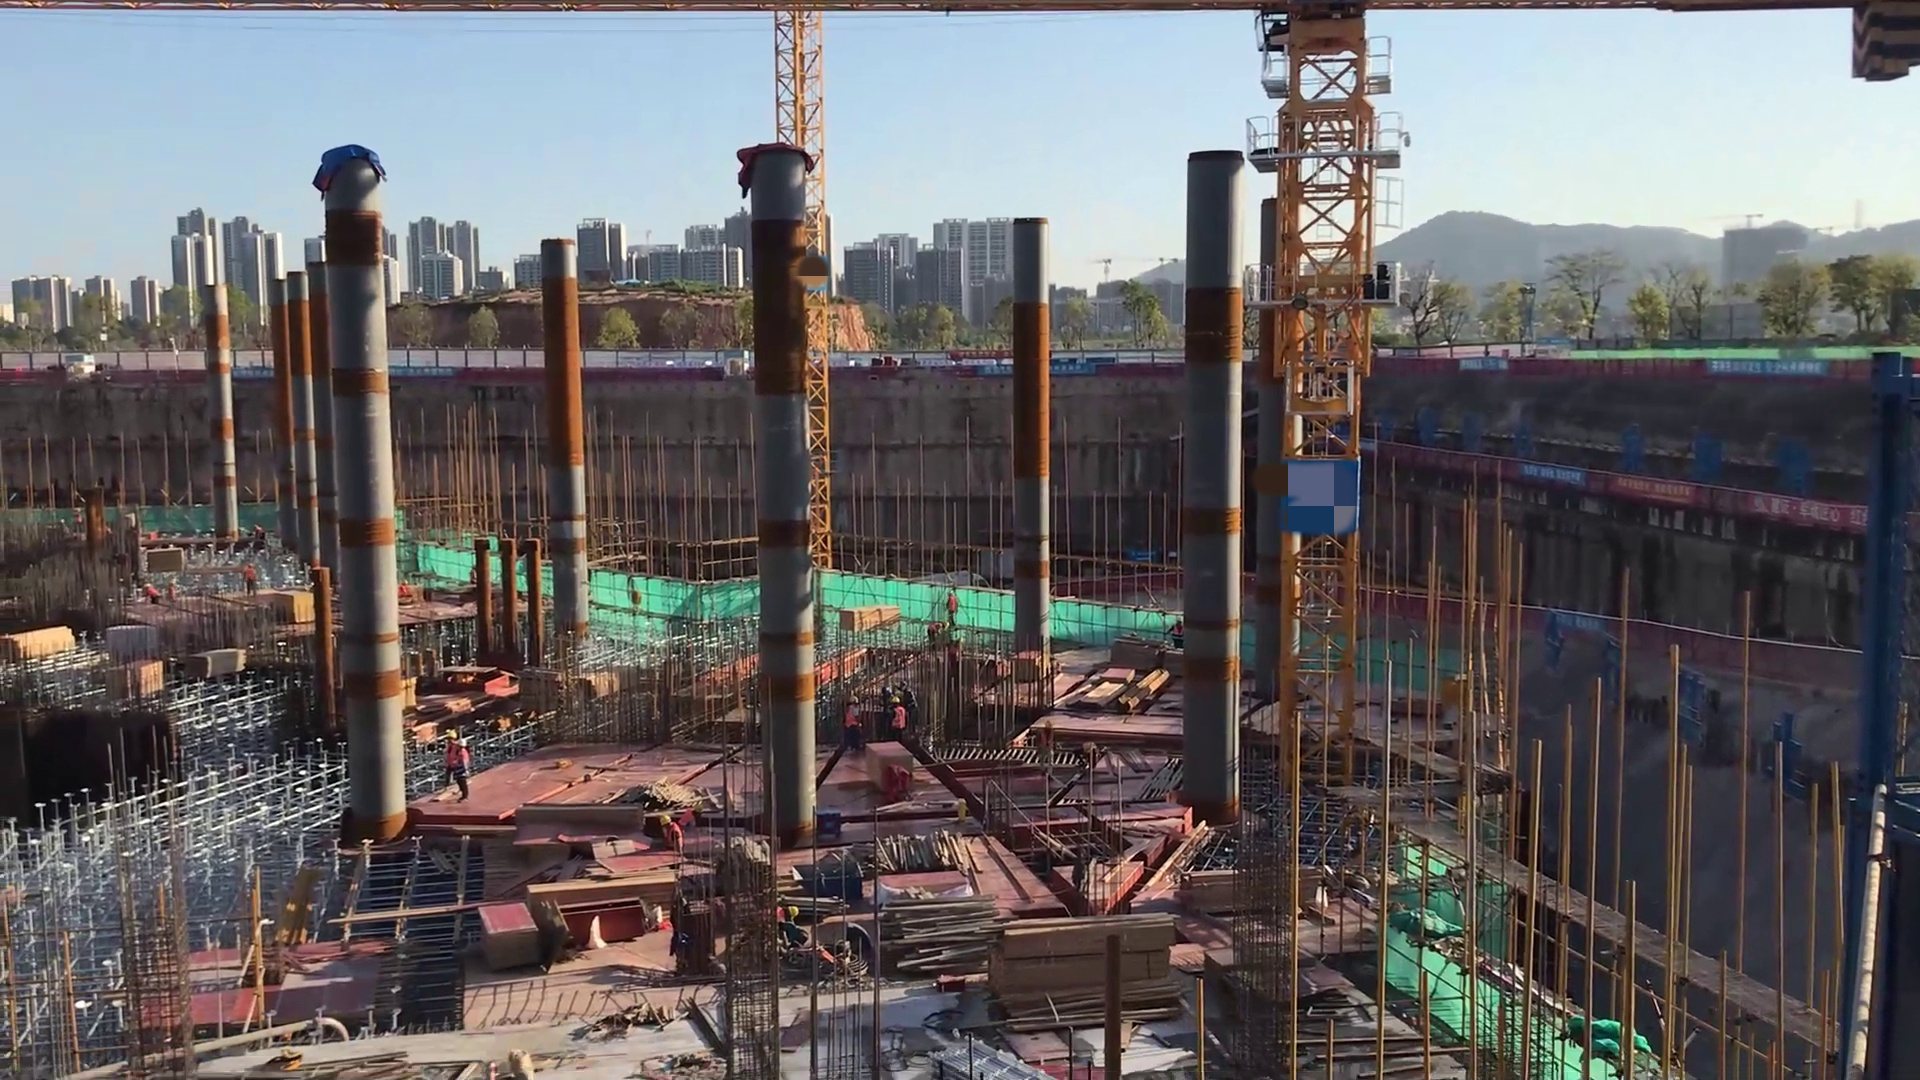board: (481, 898, 547, 973), (274, 584, 313, 627)
helmet: (692, 800, 705, 817), (846, 693, 863, 707), (788, 903, 798, 924), (458, 737, 469, 751), (658, 815, 672, 827), (446, 730, 460, 741), (890, 698, 901, 709), (1175, 616, 1186, 628), (947, 590, 957, 599), (400, 577, 409, 586), (940, 620, 950, 628)
hook: (795, 856, 866, 907)
person: (763, 898, 799, 942), (454, 736, 473, 806), (902, 680, 925, 736), (881, 763, 913, 802), (844, 691, 863, 754), (659, 816, 684, 859), (442, 730, 459, 790), (944, 585, 965, 631), (888, 695, 907, 743), (922, 616, 951, 646), (1166, 614, 1187, 653), (680, 803, 704, 832), (243, 560, 258, 597), (144, 581, 164, 610), (168, 575, 180, 610), (398, 575, 410, 603)
scaffold: (923, 1032, 1061, 1080)
slogan: (1745, 492, 1885, 540), (1611, 472, 1694, 503), (1705, 360, 1832, 379), (1522, 460, 1588, 489), (1453, 348, 1514, 378), (980, 360, 1092, 376), (387, 362, 454, 381), (231, 363, 278, 385)
vest: (456, 749, 472, 780), (845, 703, 862, 731), (904, 686, 921, 713), (891, 708, 907, 732), (445, 744, 457, 770), (245, 567, 257, 586), (947, 596, 958, 615)
wood: (990, 900, 1183, 1026), (876, 896, 998, 983), (531, 866, 678, 931), (1175, 863, 1314, 919), (3, 620, 76, 671), (191, 643, 252, 688), (838, 599, 898, 638)
